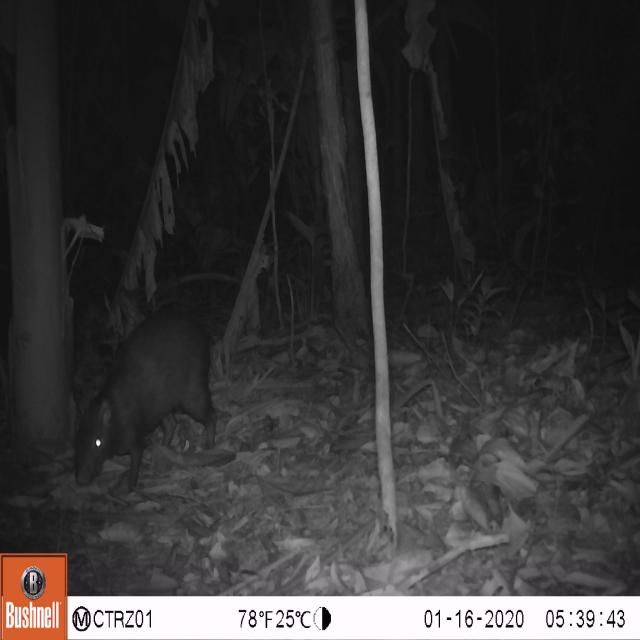Black Agouti: (48, 241, 258, 512)
